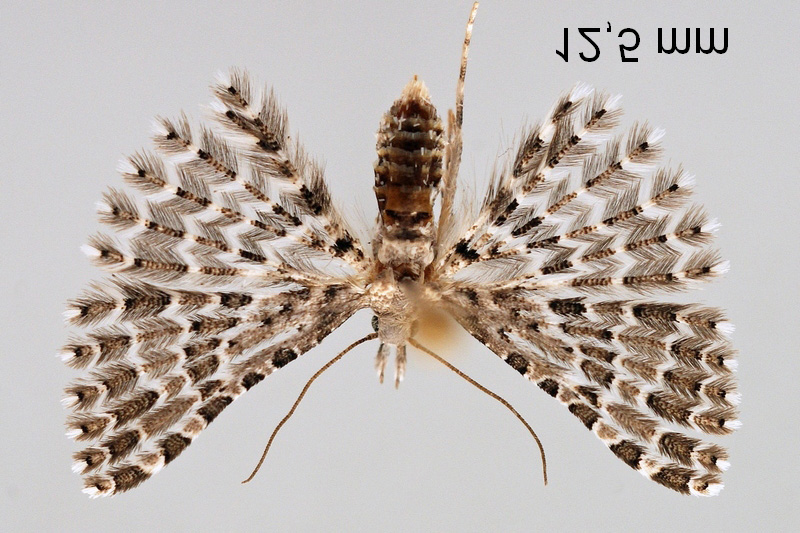Alucitidae: (58, 3, 739, 508)
moth: (60, 5, 741, 510)
